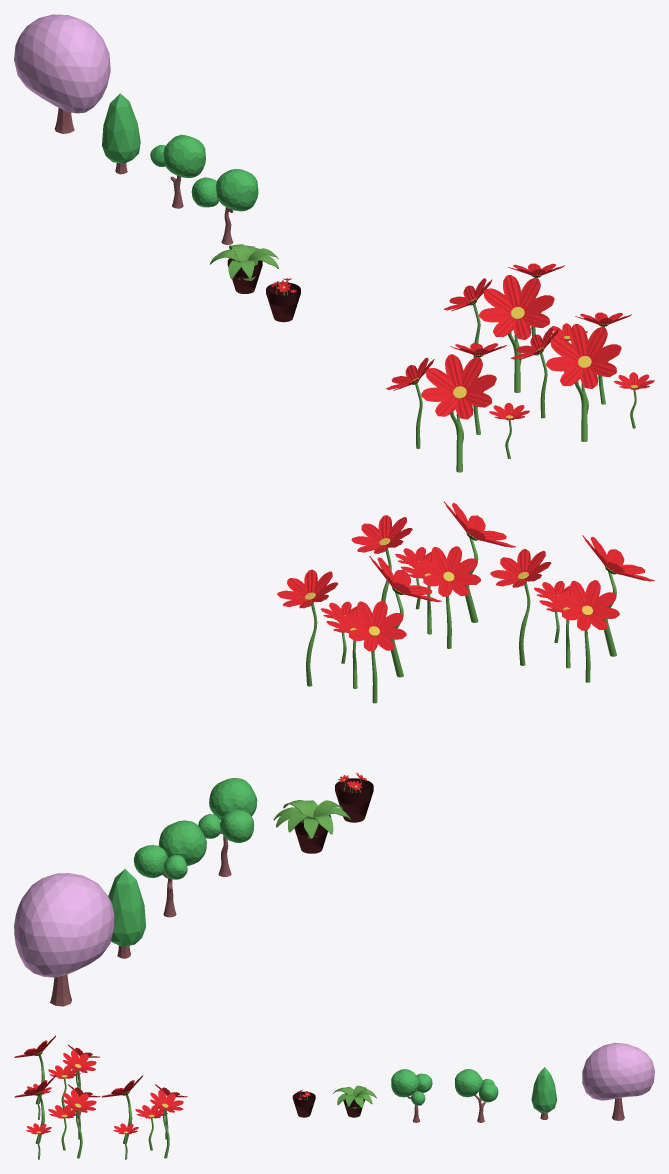
Rendered from Planten_Tinka(Bomen+Bloemen).fbx.
3 views of the same model, one above another, from view 1: azimuth 30°, elevation 25°; view 2: azimuth 150°, elevation 25°; view 3: azimuth 270°, elevation 25° (orthographic). The views are drawn at different scales.
Parts seen in each view (by area): view 1: Icosphere.004, Circle.025, Circle.005, Circle.015, Icosphere.001, Icosphere.003, Icosphere.002, Plane.005, Circle.001; view 2: Icosphere.004, Icosphere.002, Icosphere.001, Icosphere.003, Circle.007, Circle.017, Circle.027, Plane.005, Circle.031, Circle.021, Circle.011, Circle.001 (+3 smaller); view 3: Icosphere.004, Icosphere.001, Icosphere.002, Icosphere.003, Plane.005, Circle.011, Circle.021, Circle.001, Circle.031, Circle.003, Circle.023, Circle.013 (+5 smaller).
Part boxes in pixels (box(x1,y1,x2,y2)): Icosphere.004: box(14, 14, 110, 113); Circle.025: box(421, 354, 496, 419); Circle.005: box(479, 275, 554, 339); Circle.015: box(546, 324, 621, 388); Icosphere.001: box(191, 169, 258, 211); Icosphere.003: box(102, 93, 140, 163); Icosphere.002: box(150, 134, 205, 177); Plane.005: box(210, 244, 278, 280); Circle.001: box(266, 282, 300, 322); Icosphere.004: box(14, 873, 114, 977); Icosphere.002: box(133, 820, 206, 879); Icosphere.001: box(198, 778, 257, 842); Icosphere.003: box(108, 869, 145, 946); Circle.007: box(345, 600, 406, 651); Circle.017: box(419, 546, 480, 596); Circle.027: box(558, 580, 619, 630); Plane.005: box(273, 800, 350, 838); Circle.031: box(490, 549, 551, 587); Circle.021: box(351, 515, 412, 553); Circle.011: box(277, 569, 337, 608); Circle.001: box(335, 778, 373, 822); Icosphere.004: box(582, 1042, 654, 1100); Icosphere.001: box(391, 1069, 432, 1105); Icosphere.002: box(454, 1069, 498, 1102); Icosphere.003: box(531, 1067, 556, 1112); Plane.005: box(333, 1085, 376, 1108); Circle.011: box(150, 1090, 183, 1112); Circle.021: box(62, 1090, 96, 1112); Circle.001: box(292, 1091, 315, 1117); Circle.031: box(63, 1050, 96, 1072); Circle.003: box(135, 1104, 167, 1118); Circle.023: box(48, 1065, 80, 1078); Circle.013: box(48, 1104, 80, 1118).
Size of the model in its own units: 3118 by 1493 by 11320.
